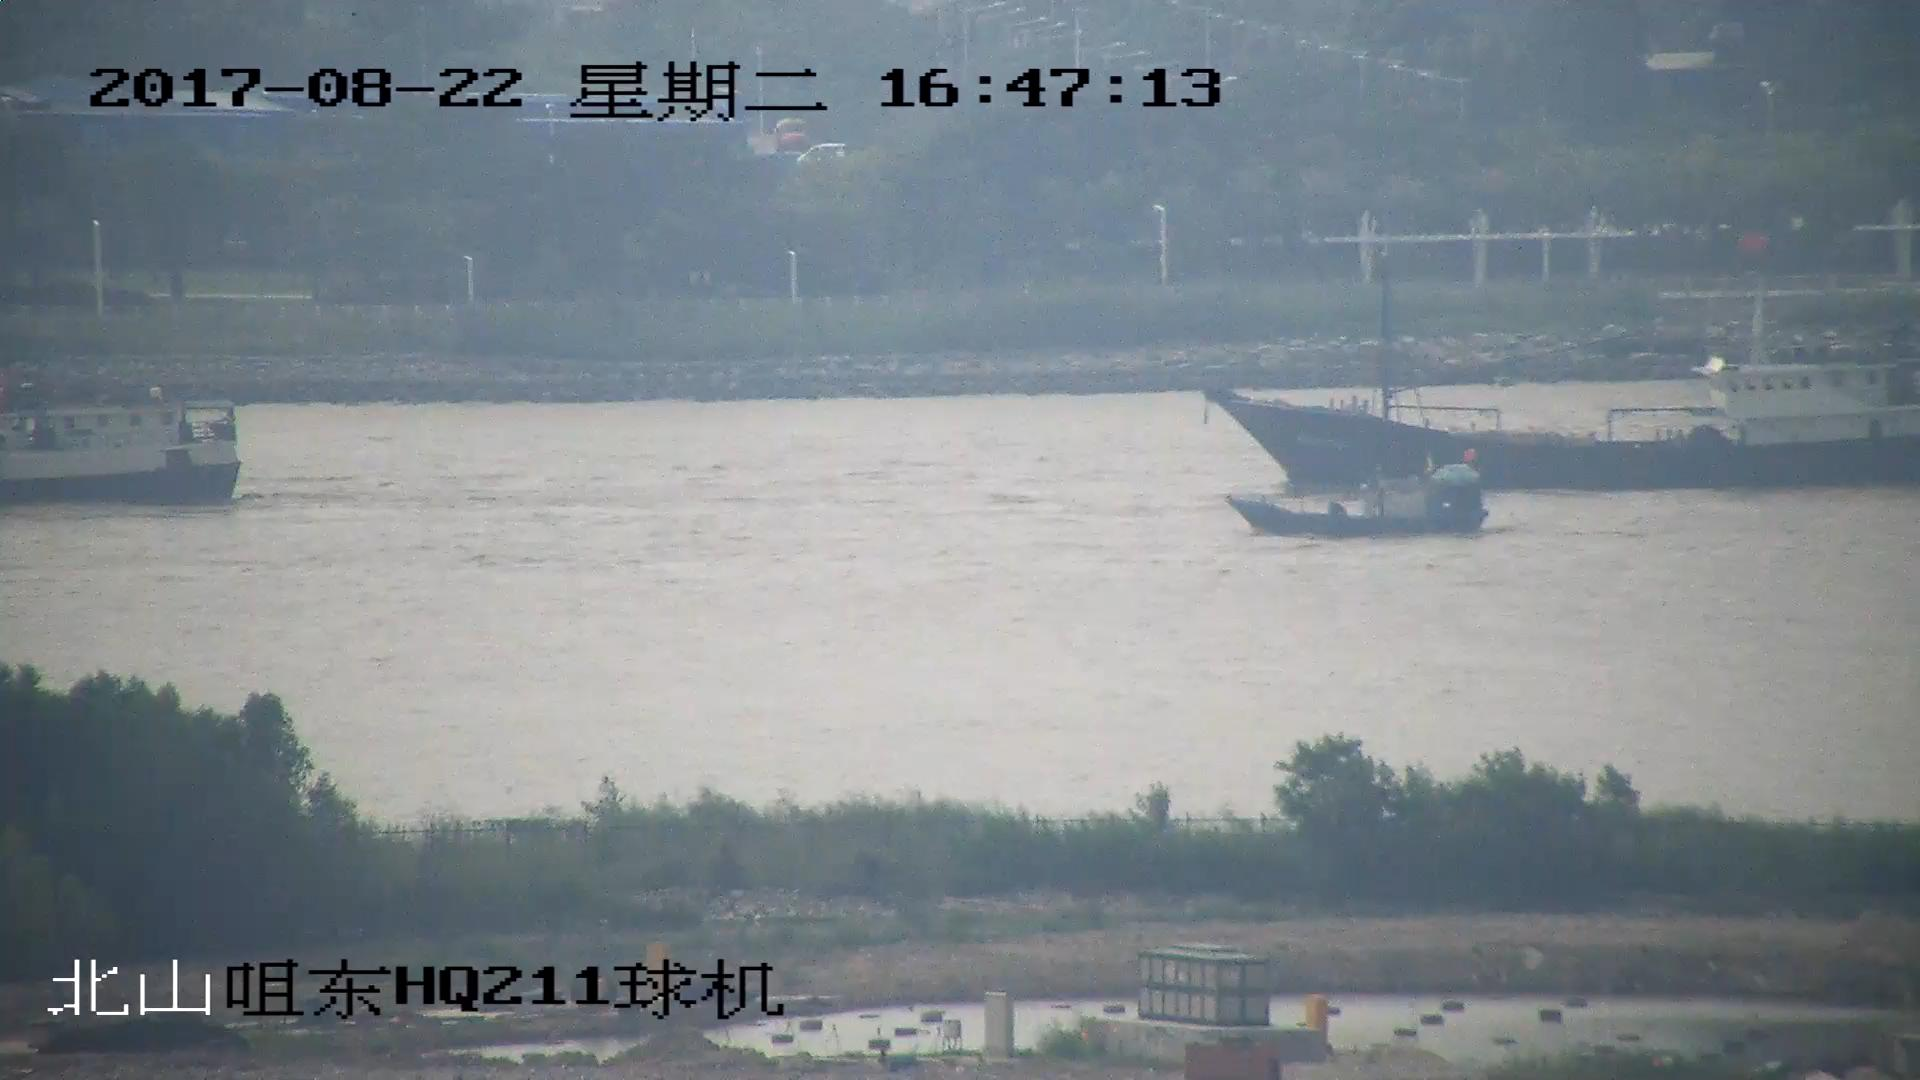fishing boat: (1206, 256, 1920, 495), (1, 386, 244, 502), (1229, 448, 1491, 544)
